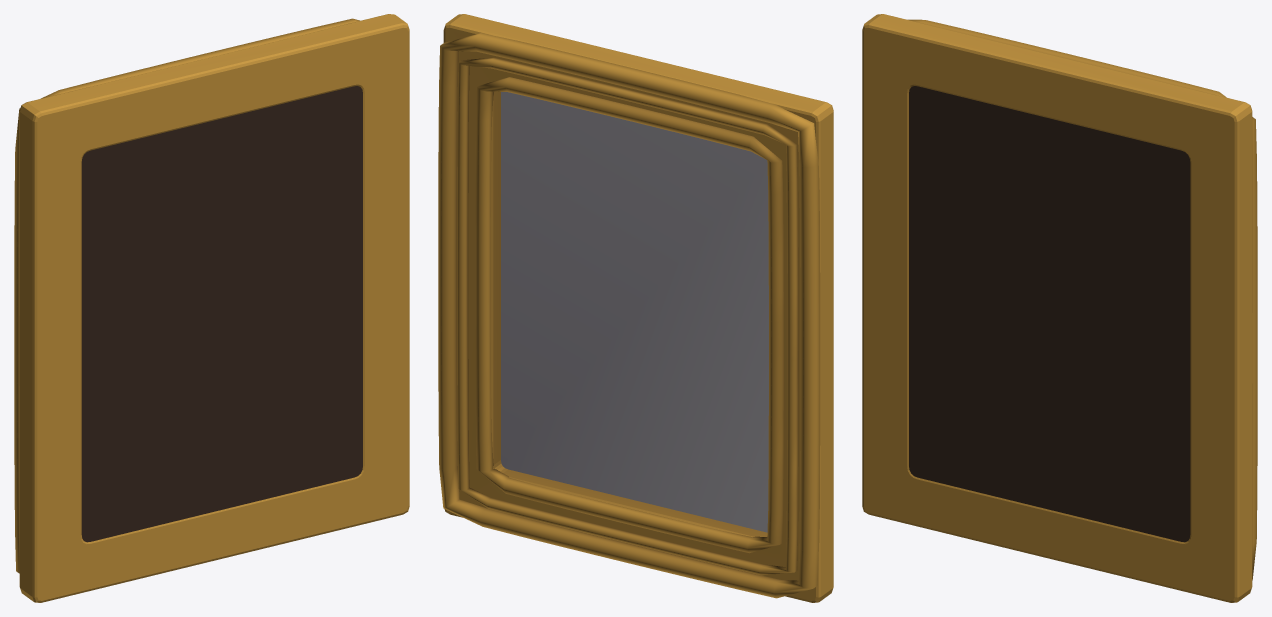
File: frame_picture__381.glb
The picture shows the model from 3 angles, left to right: view 1: azimuth 30°, elevation 25°; view 2: azimuth 150°, elevation 25°; view 3: azimuth 330°, elevation 25°; orthographic projection.
Parts seen in each view (by area): view 1: prop_frame_picture, merged_toon_C8963C; view 2: prop_frame_picture, merged_toon_C8963C; view 3: prop_frame_picture, merged_toon_C8963C.
Part boxes in pixels (x1,y1,x2,y2): prop_frame_picture: (81, 86, 362, 542); merged_toon_C8963C: (14, 14, 409, 602); prop_frame_picture: (501, 92, 768, 532); merged_toon_C8963C: (438, 14, 833, 602); prop_frame_picture: (909, 86, 1190, 542); merged_toon_C8963C: (862, 14, 1257, 602).
Size of the model in its own units: 0.6103 by 0.76 by 0.063.
